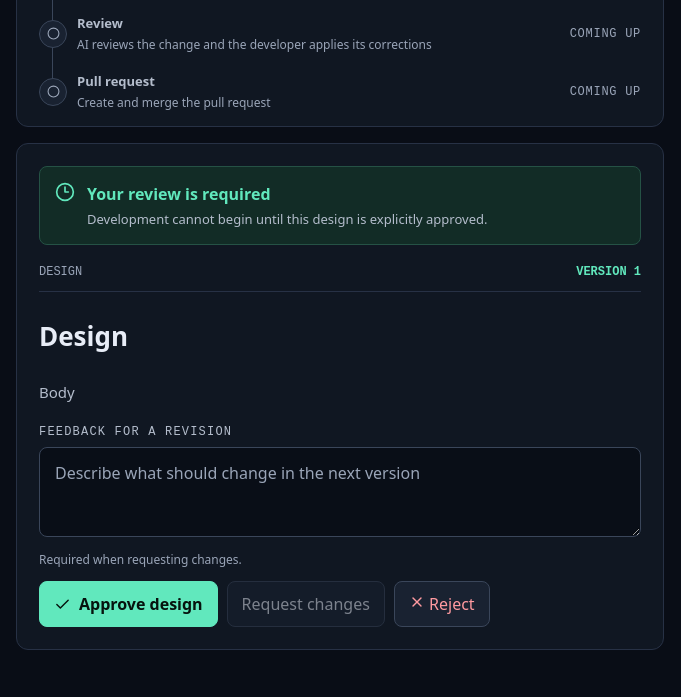
Test: WorkflowDetailPage actions › requires feedback before requesting design changes and reports failures
(page scrolled)
Expected: the button "Request changes" is disabled, [227,581,385,627]
Type "Split the API module" into the text box labelled "Feedback for a revision".
click(340, 492); type("Split the API module")  # box [39,447,641,537]
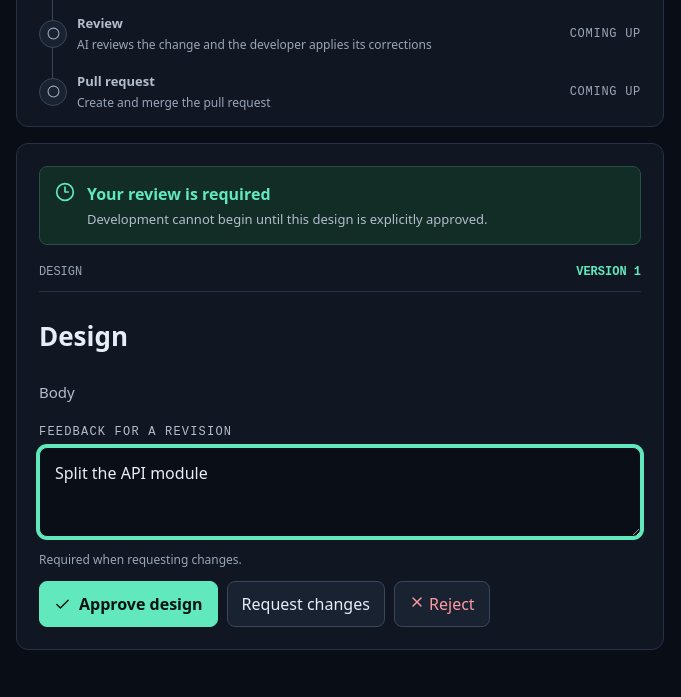
Click the button "Request changes".
click(306, 604)  # box [227,581,385,627]
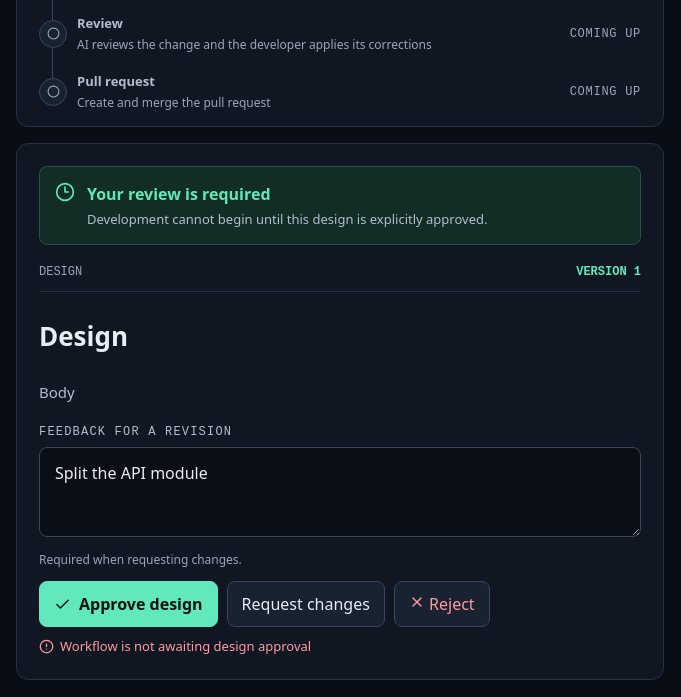
Expected: the message shows "not awaiting design approval", [60,637,311,655]
